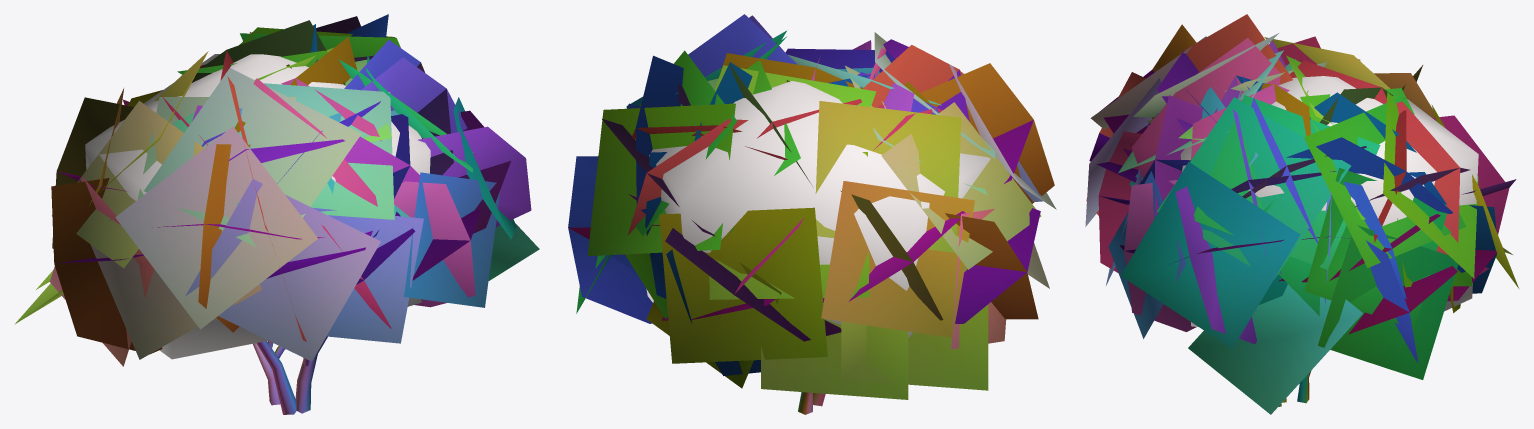
The model's file is Homeworld_Exterior_Common_Plant_Grass_24_Lod0.fbx.
3 renders of one model, left to right at view 1: azimuth 30°, elevation 25°; view 2: azimuth 150°, elevation 25°; view 3: azimuth 270°, elevation 25°, orthographic. The views are drawn at different scales.
Visible parts, largest first — view 1: Stages_MGrass01_Lod0, EffectMesh; view 2: Stages_MGrass01_Lod0, EffectMesh; view 3: Stages_MGrass01_Lod0, EffectMesh.
Part boxes in pixels (<box>): Stages_MGrass01_Lod0: <box>14,14,539,414</box>; EffectMesh: <box>85,54,430,359</box>; Stages_MGrass01_Lod0: <box>568,14,1056,414</box>; EffectMesh: <box>646,81,990,338</box>; Stages_MGrass01_Lod0: <box>1085,14,1518,414</box>; EffectMesh: <box>1180,76,1478,327</box>.
Bounding box in the file's own units: 2.71 × 2.04 × 2.27.
